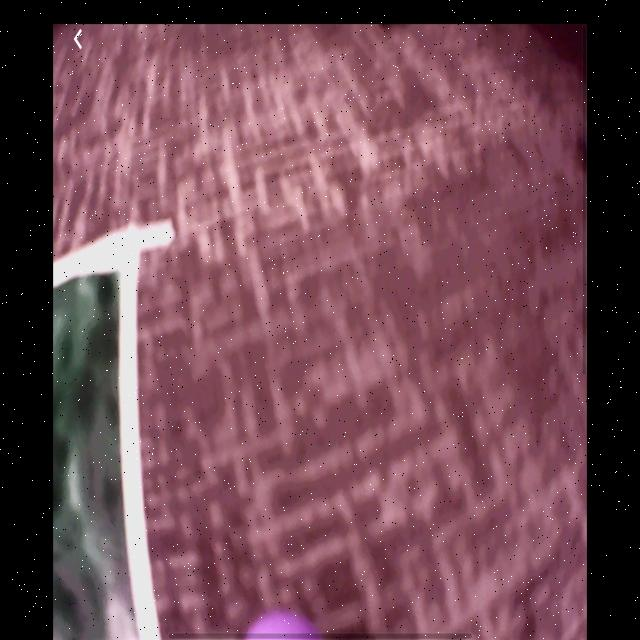ball: (245, 608, 321, 639)
